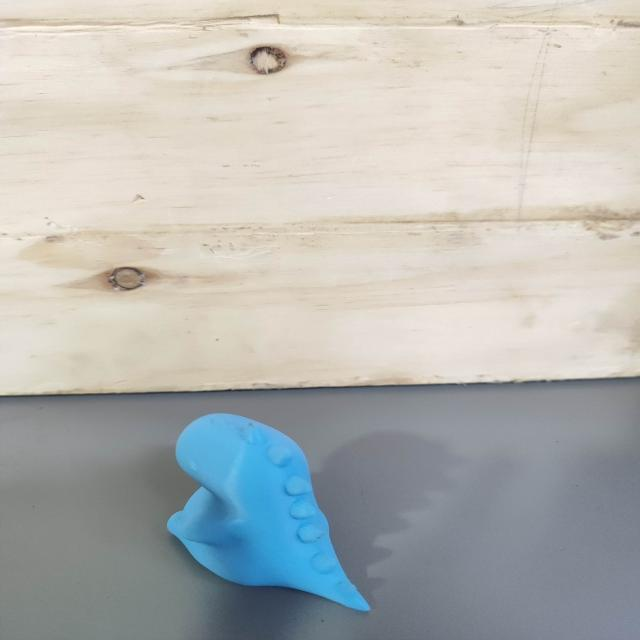DINO: (164, 415, 377, 617)
